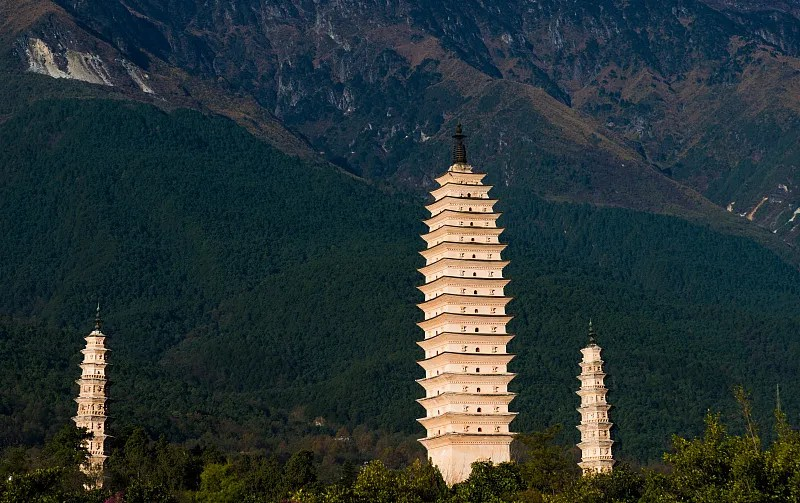ThreePagoda: (415, 119, 521, 483)
